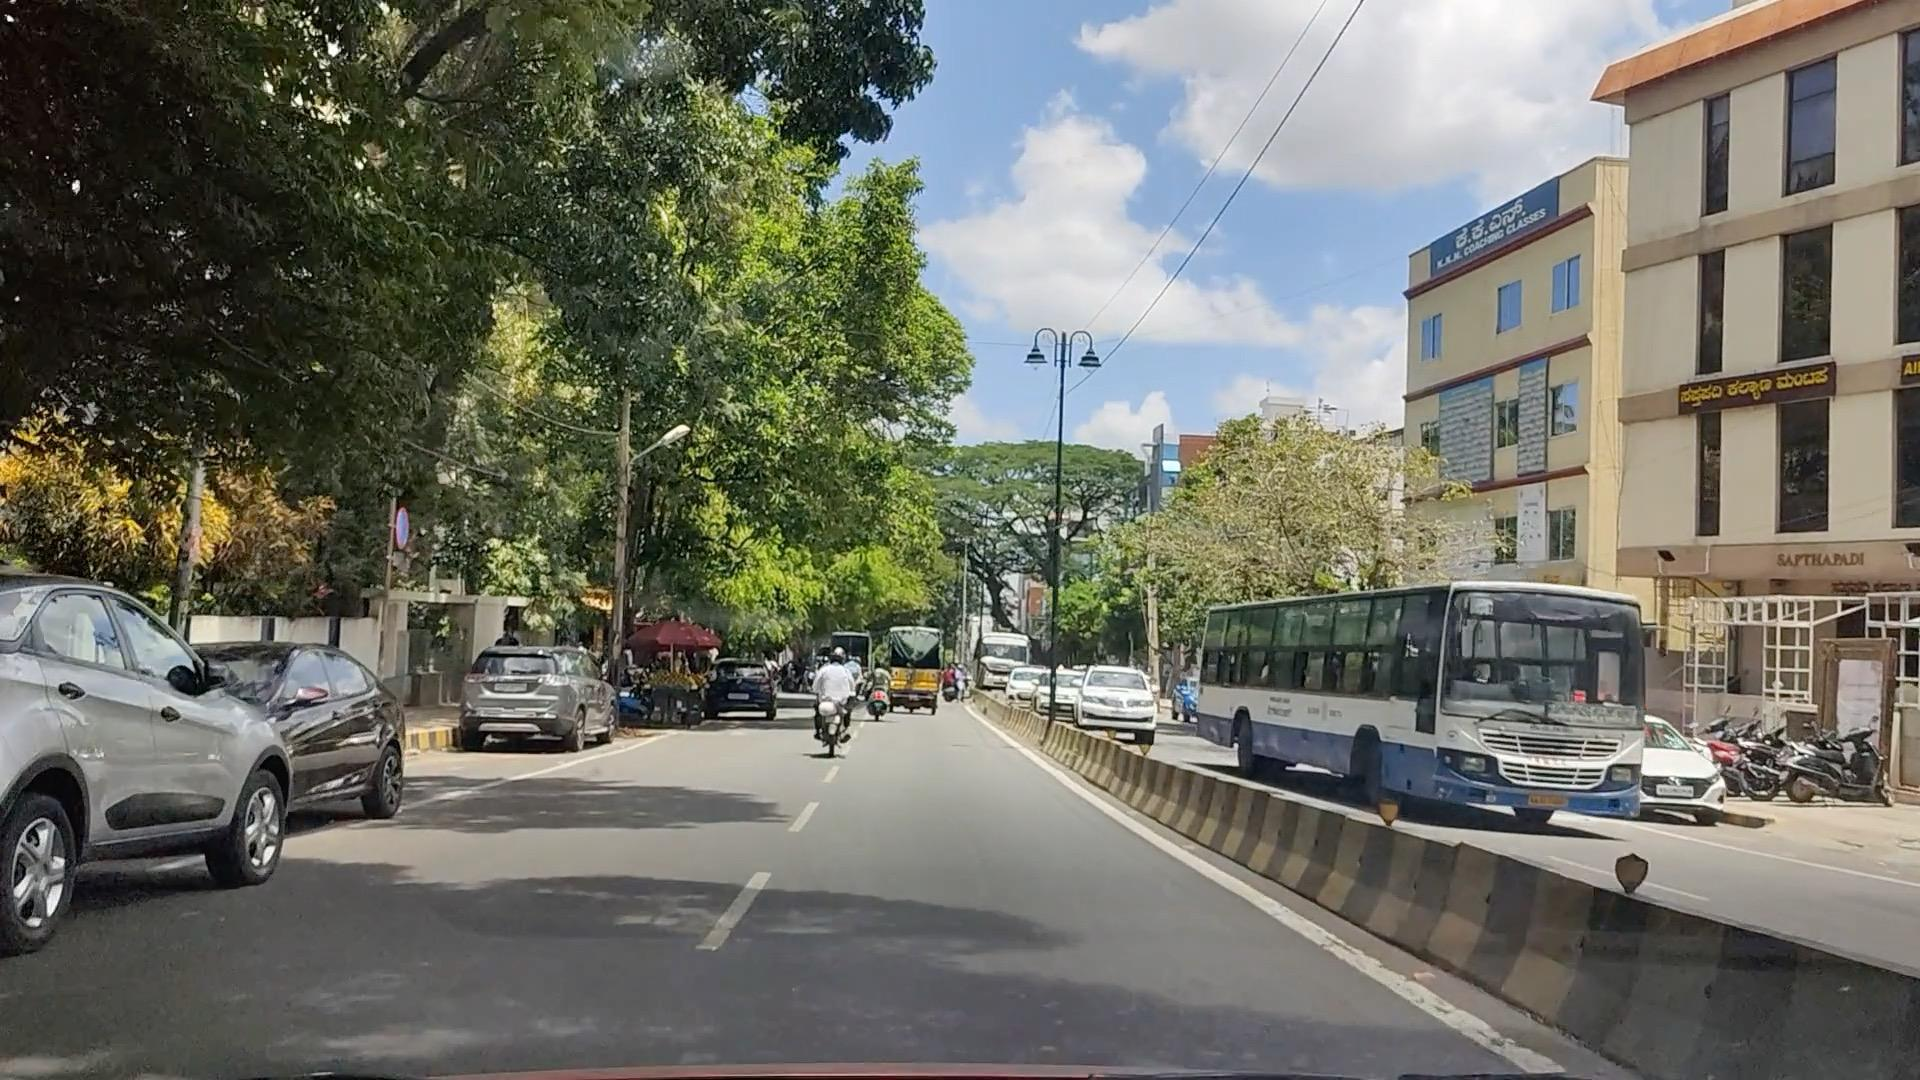LMV: (790, 620, 865, 756)
